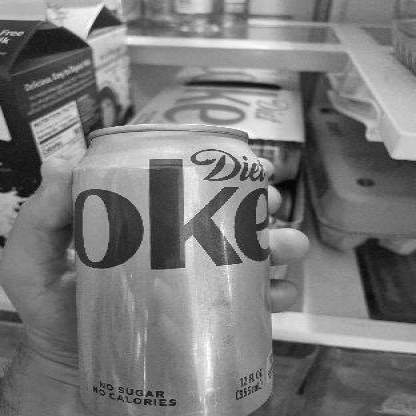alumunium_can: (66, 120, 274, 416)
